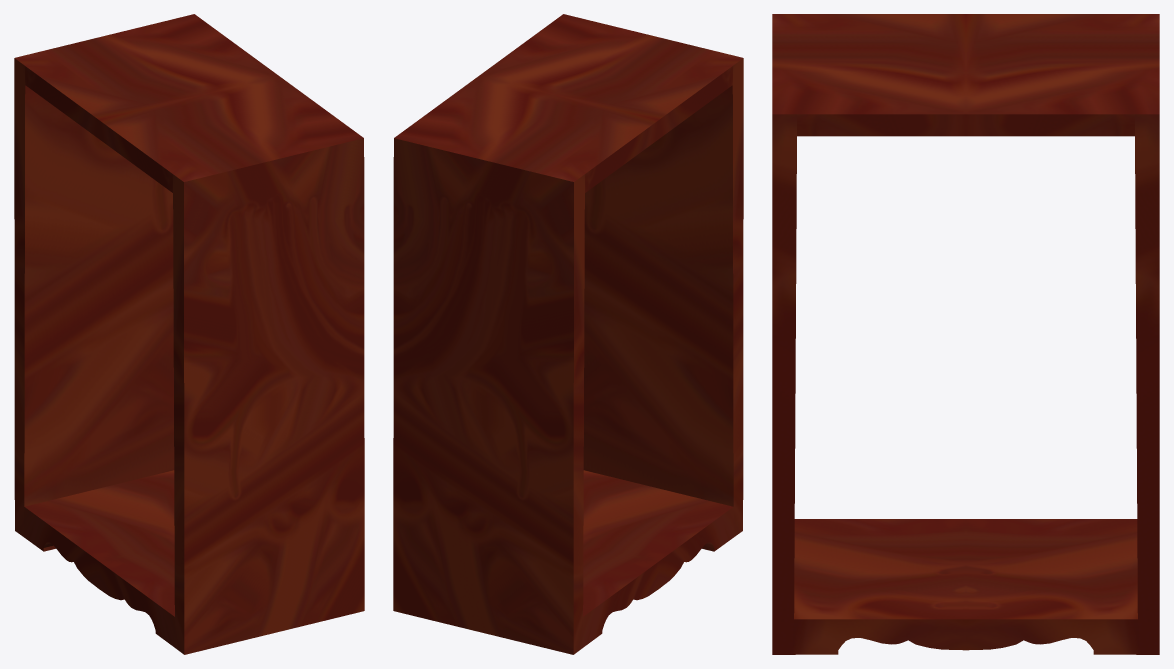
Rendered from corpo_armario.glb.
3 renders of one model, left to right at view 1: azimuth 30°, elevation 25°; view 2: azimuth 150°, elevation 25°; view 3: azimuth 270°, elevation 25°, orthographic. The views are drawn at different scales.
Visible parts, largest first — view 1: armario; view 2: armario; view 3: armario.
Boxes of the visible parts, box(x1,y1,x2,y2) form: armario: box(14, 14, 364, 654); armario: box(393, 14, 743, 654); armario: box(772, 14, 1159, 654).
Bounding box in the file's own units: 0.8 × 2 × 1.3.
Materials: 1 (1 with a texture image).
